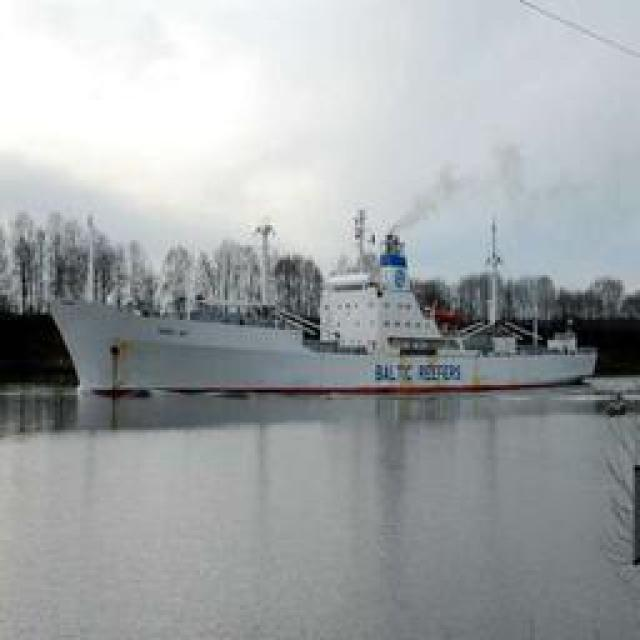CIV_Ship: (26, 226, 604, 394)
